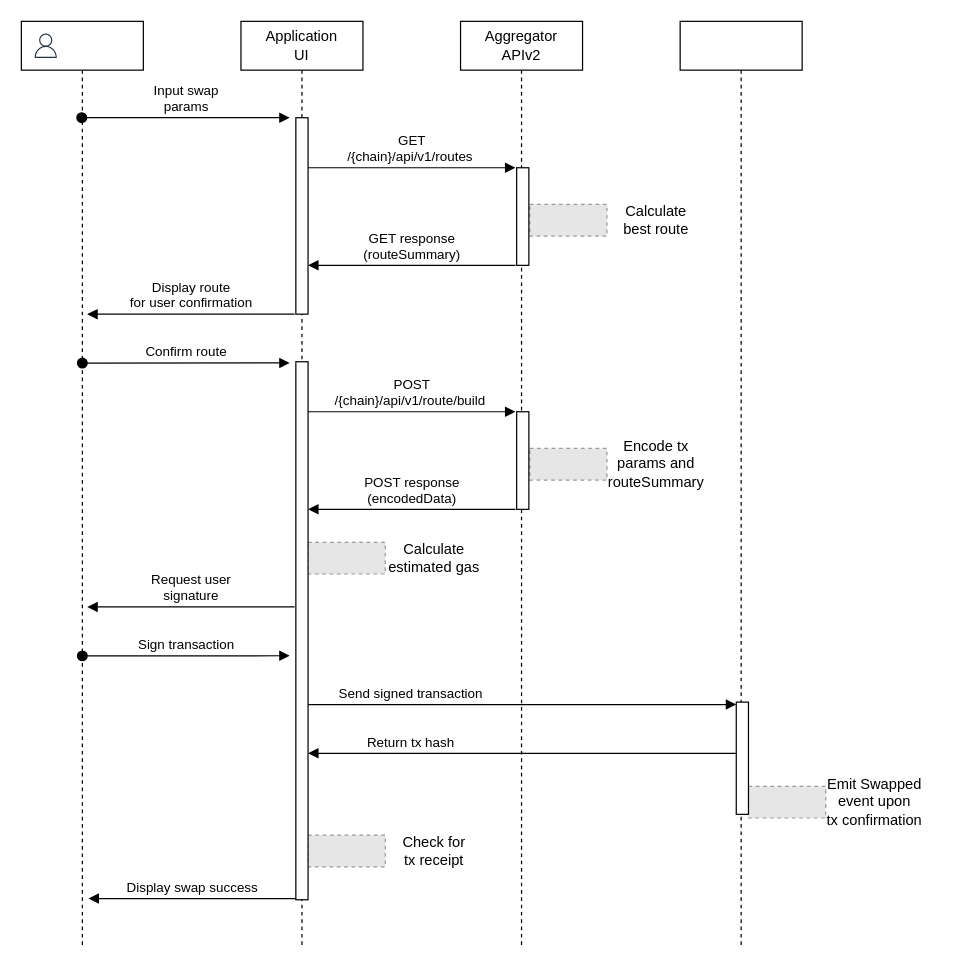
The diagram is 956 pixels wide and 970 high, and some of its shapes have lost their labels. Grey dashed boxes stand in for pictures. Each missing label, with the box of its shape:
Aggregator Router Contract: (679, 20, 802, 949)
User: (20, 20, 143, 949)
